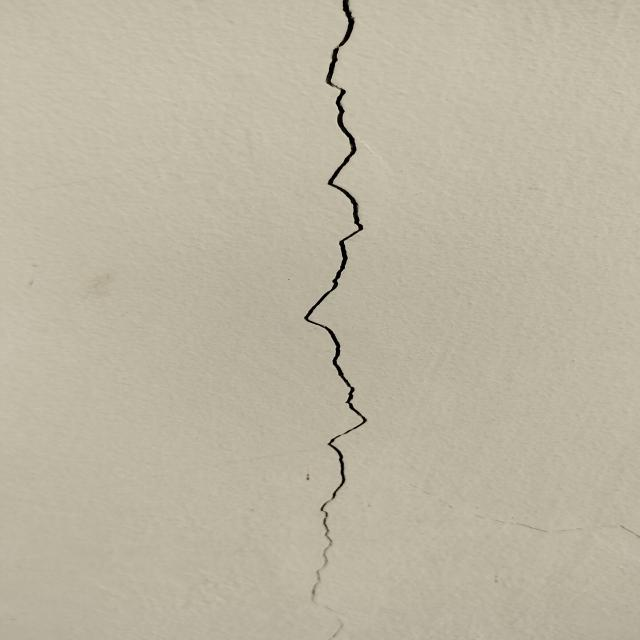Crack: (290, 1, 374, 640)
